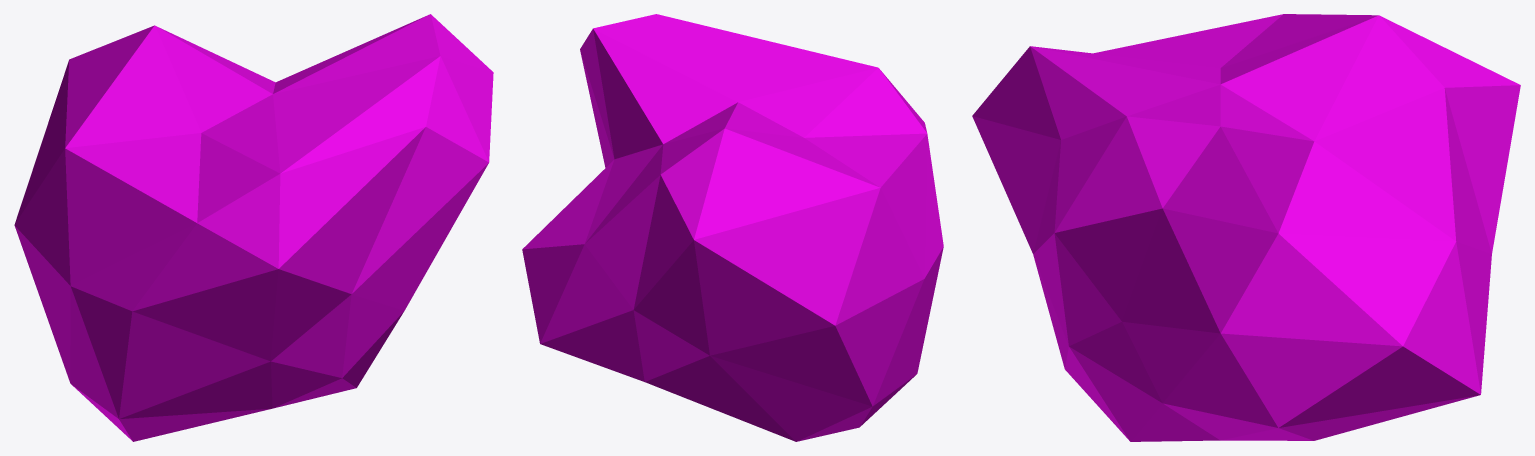
Rendered from asteroid_1.fbx.
3 views of the same model, side by side, from view 1: azimuth 30°, elevation 25°; view 2: azimuth 150°, elevation 25°; view 3: azimuth 270°, elevation 25° (orthographic). The views are drawn at different scales.
Visible parts, largest first — view 1: Asteroid_1; view 2: Asteroid_1; view 3: Asteroid_1.
Part boxes in pixels (x1,y1,x2,y2): Asteroid_1: (14, 14, 493, 441); Asteroid_1: (522, 14, 943, 441); Asteroid_1: (972, 14, 1520, 441).
Size of the model in its own units: 11.85 by 10.2 by 11.85.
